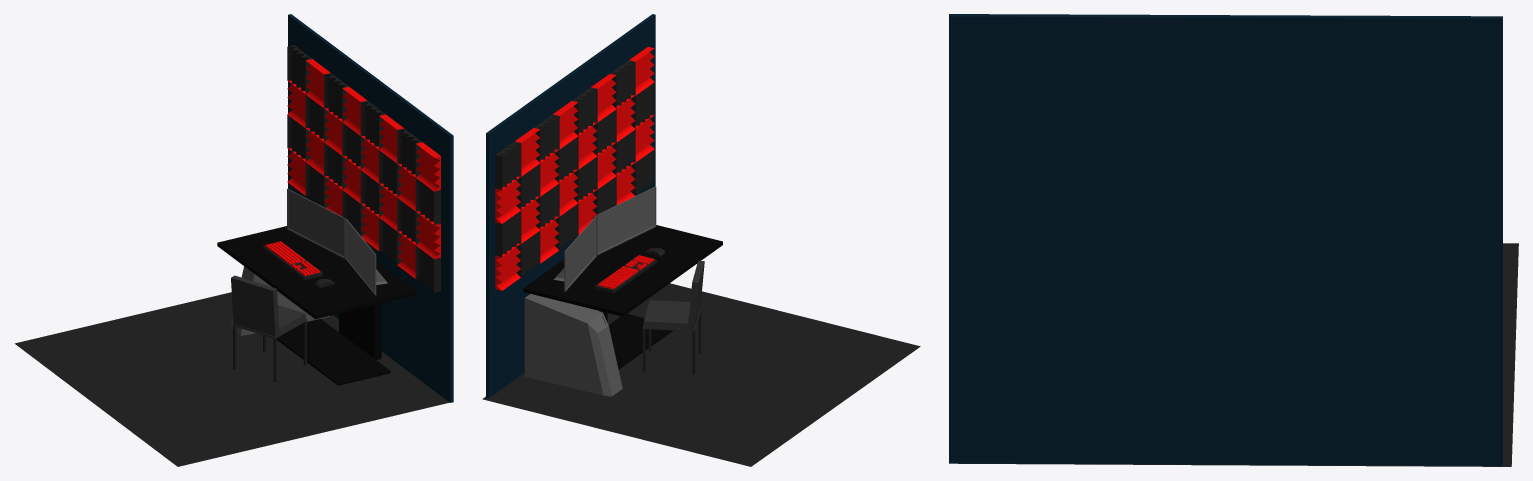
File: office_setup.glb
3 renders of one model, left to right at view 1: azimuth 30°, elevation 25°; view 2: azimuth 150°, elevation 25°; view 3: azimuth 270°, elevation 25°, orthographic. The views are drawn at different scales.
Parts seen in each view (by area): view 1: Plane001, Box017, tabletop, Box011, Box010, Box050, Box023, Box039, Box045, Box047, Box049, Box051 (+27 smaller); view 2: Plane001, Box017, tabletop, Box014, Box011, Box010, Box049, Box033, Box051, Box045, Box026, Box042 (+27 smaller); view 3: Box017, Plane001.
Part boxes in pixels (x1,y1,x2,y2): Plane001: (14, 292, 449, 466); Box017: (288, 14, 453, 402); tabletop: (217, 226, 416, 385); Box011: (287, 188, 387, 295); Box010: (231, 275, 306, 338); Box050: (416, 142, 440, 191); Box023: (415, 245, 440, 292); Box039: (415, 178, 440, 224); Box045: (360, 100, 385, 149); Box047: (397, 128, 422, 177); Box049: (287, 45, 311, 94); Box051: (324, 73, 348, 121); Plane001: (482, 283, 920, 466); Box017: (486, 14, 655, 398); tabletop: (523, 225, 722, 369); Box014: (524, 294, 622, 396); Box011: (553, 186, 656, 291); Box010: (642, 260, 704, 331); Box049: (495, 141, 521, 189); Box033: (495, 210, 521, 256); Box051: (534, 114, 559, 162); Box045: (572, 87, 597, 135); Box026: (495, 243, 520, 290); Box042: (495, 176, 520, 223); Box017: (949, 14, 1502, 465); Plane001: (958, 243, 1518, 466).
Bounding box in the file's own units: 145 × 133 × 153.
